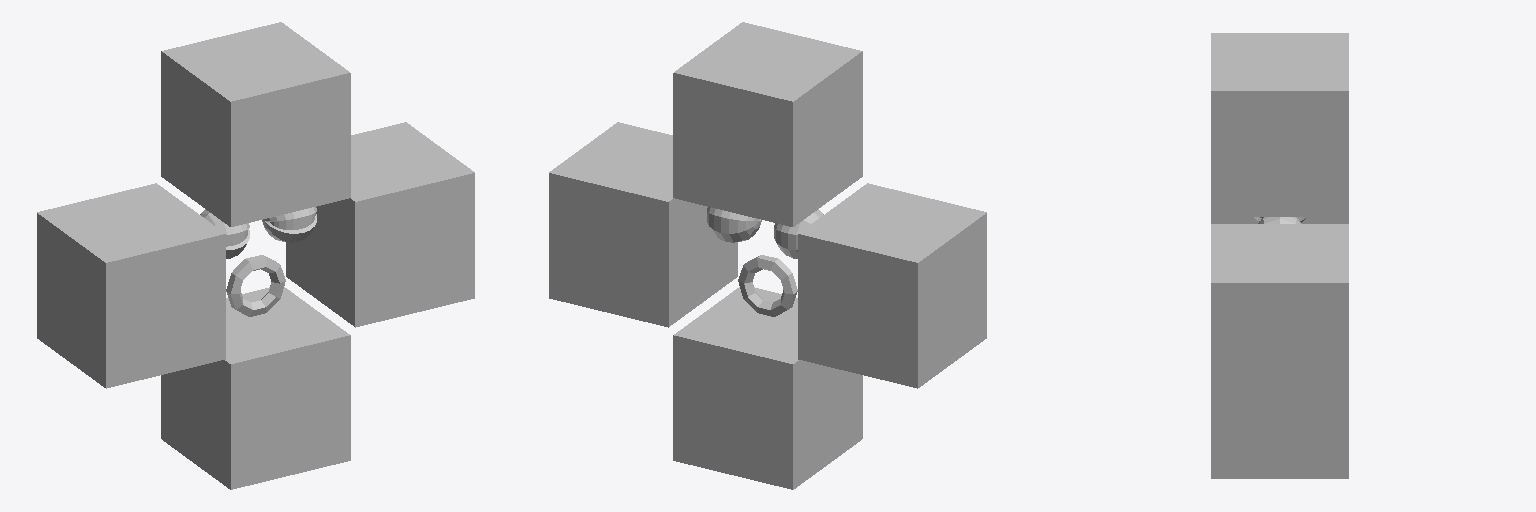
The model's file is tetris.obj.
3 views of the same model, side by side, from view 1: azimuth 30°, elevation 25°; view 2: azimuth 150°, elevation 25°; view 3: azimuth 270°, elevation 25° (orthographic).
Parts seen in each view (by area): view 1: Terits; view 2: Terits; view 3: Terits.
Boxes of the visible parts, box(x1,y1,x2,y2) form: Terits: box(37, 22, 474, 489); Terits: box(549, 22, 986, 489); Terits: box(1211, 33, 1348, 478).
Bounding box in the file's own units: 2.46 × 2.47 × 0.7995.